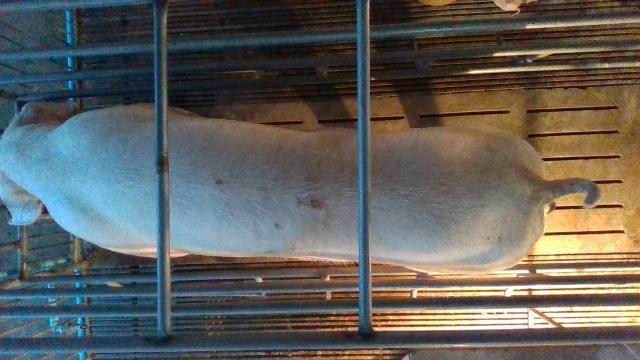sow-stand-feed: (1, 100, 602, 275)
